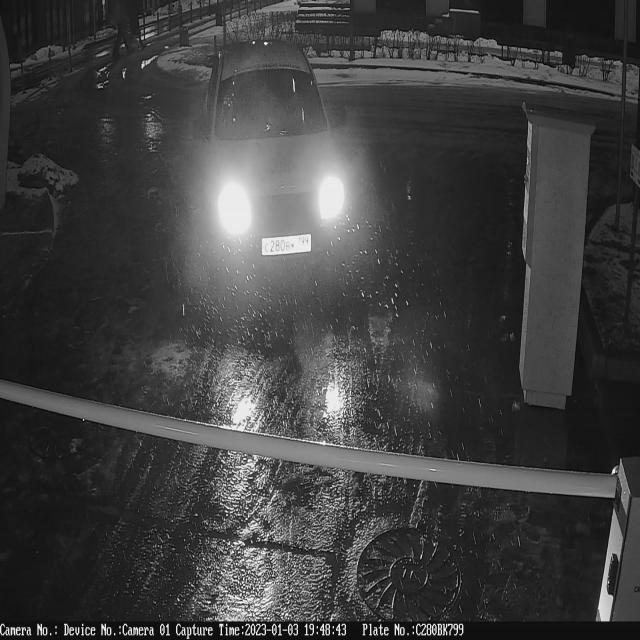car-plate-numbers: (261, 232, 315, 262)
